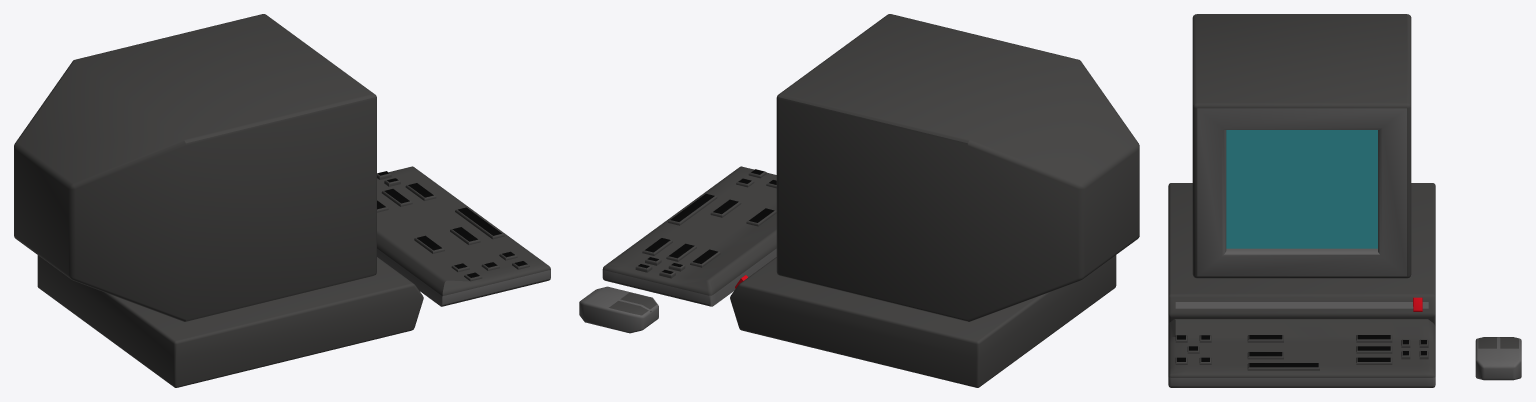
3 renders of one model, left to right at view 1: azimuth 30°, elevation 25°; view 2: azimuth 150°, elevation 25°; view 3: azimuth 270°, elevation 25°, orthographic. The views are drawn at different scales.
Visible parts, largest first — view 1: Monitor, Cpu, Keyboard; view 2: Monitor, Cpu, Keyboard, Mouse; view 3: Monitor, Keyboard, Cpu, Mouse.
Boxes of the visible parts, bbox=[...] form: Monitor: bbox=[14, 14, 376, 321]; Cpu: bbox=[37, 255, 423, 387]; Keyboard: bbox=[377, 166, 550, 306]; Monitor: bbox=[776, 14, 1139, 321]; Cpu: bbox=[730, 255, 1116, 387]; Keyboard: bbox=[602, 166, 776, 306]; Mouse: bbox=[579, 286, 658, 333]; Monitor: bbox=[1192, 14, 1411, 278]; Keyboard: bbox=[1168, 319, 1435, 387]; Cpu: bbox=[1168, 183, 1435, 326]; Mouse: bbox=[1475, 337, 1521, 380].
Bounding box in the file's own units: 368 × 186 × 264.
